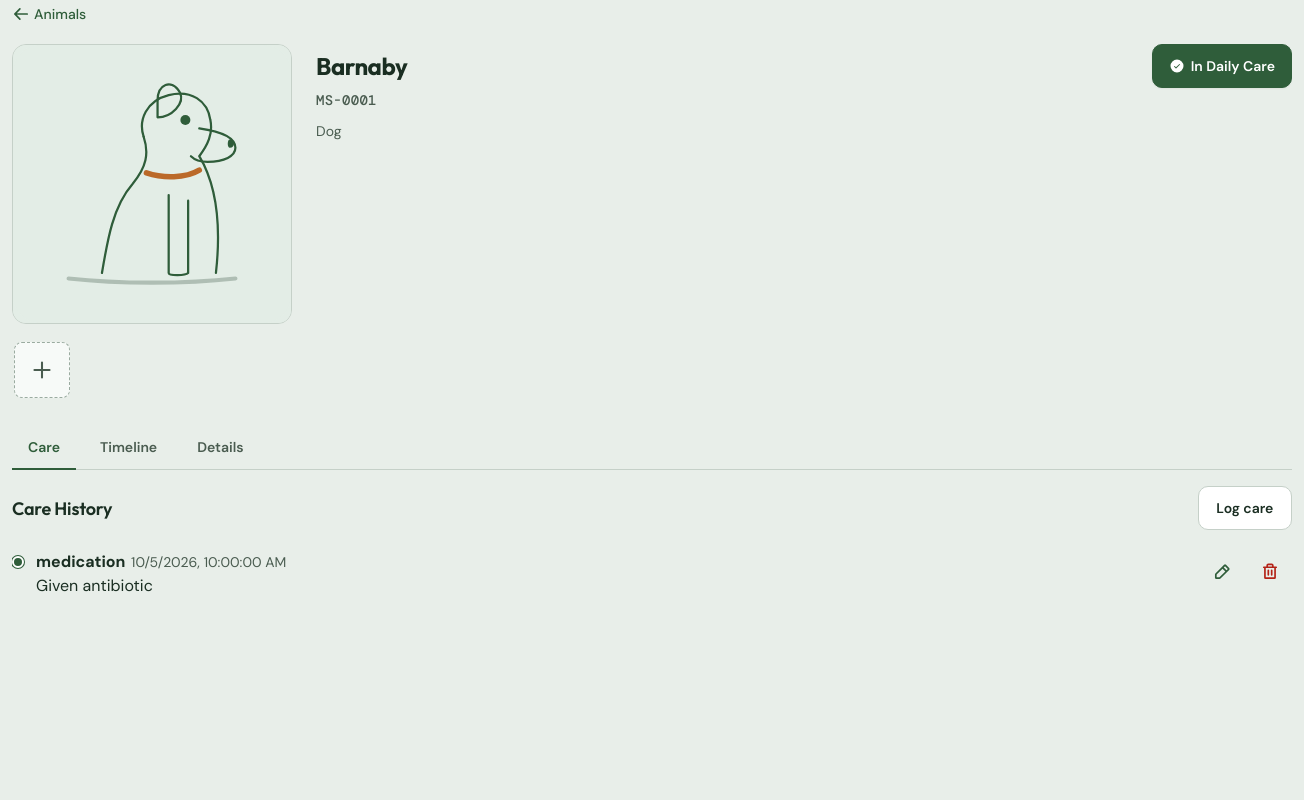
Scenario: Care and Timeline tabs on AnimalDetailScreen › switches between Care tab and Timeline tab, showing respective entries
Expected: the tab "Care" is shown, 12,426 -> 76,470
Expected: the text "Given antibiotic" is shown, 36,575 -> 153,596
Switch to Timeline tab: shows status change and arrival milestone
Click the tab "Timeline".
click(129, 448)  # box 84,426 -> 173,470
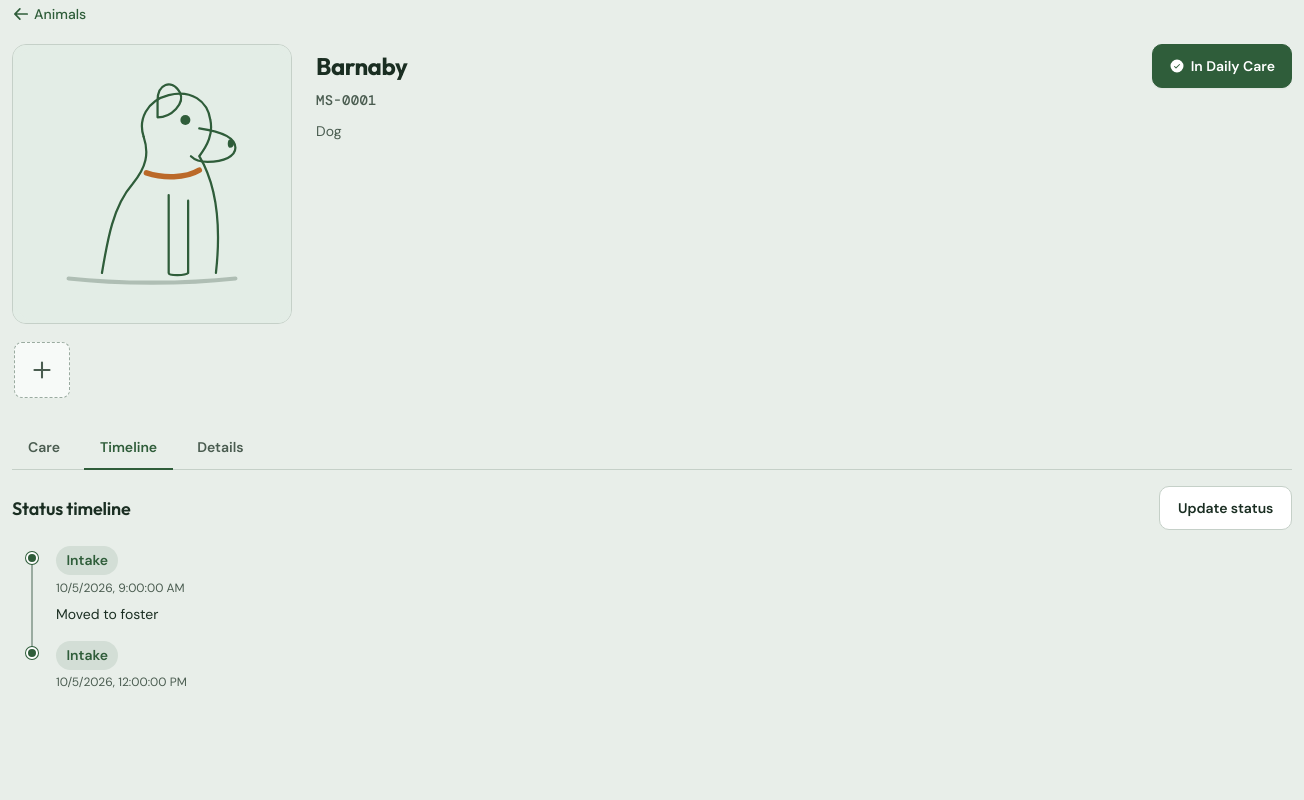
Expected: the text "Moved to foster" is shown, 56,605 -> 158,623
Expected: the 1st text "Intake" is shown, 56,546 -> 118,575
Expected: the text "Given antibiotic" is gone
